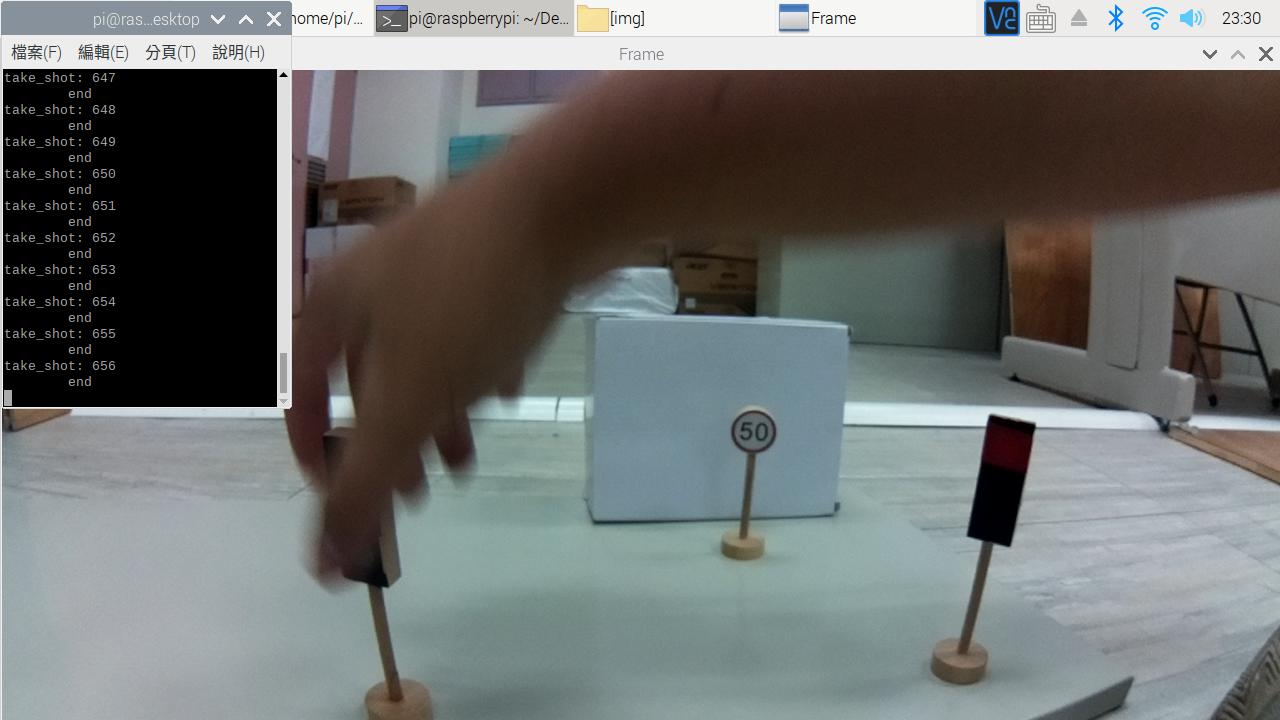Red: (965, 405, 1043, 549)
Speed50: (709, 392, 794, 465)
